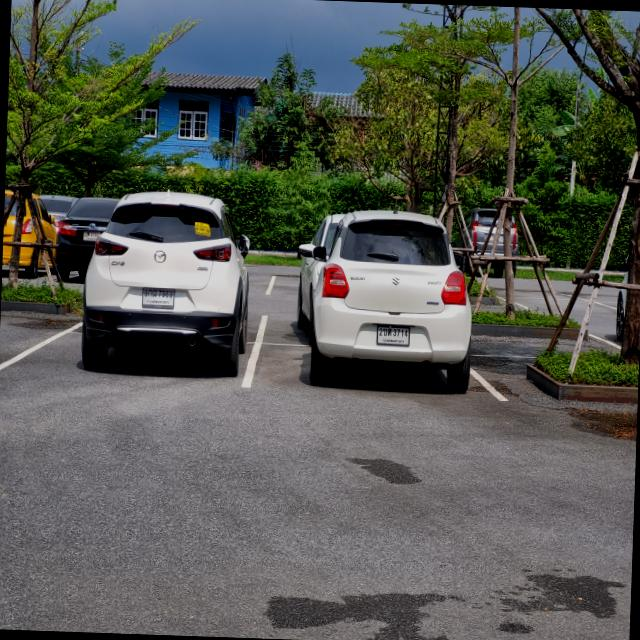license_plate: (141, 286, 174, 310), (376, 324, 411, 346), (82, 230, 100, 241)
